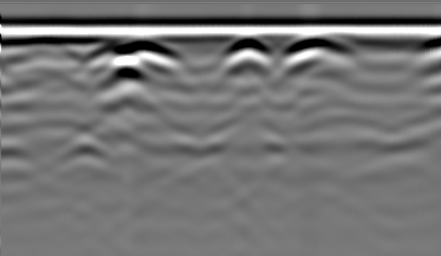steel: (122, 41, 172, 67), (223, 39, 270, 66), (296, 41, 340, 63)
